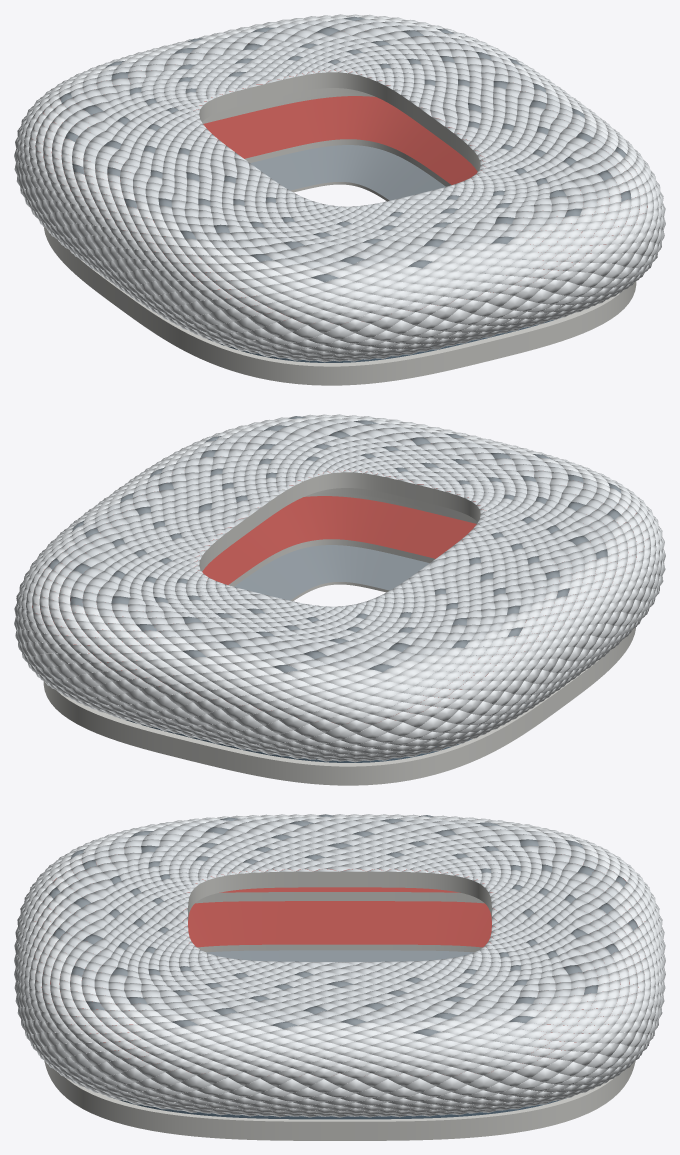
File: munich-allianz-arena.detail.glb
3 renders of one model, top to bottom at view 1: azimuth 30°, elevation 25°; view 2: azimuth 150°, elevation 25°; view 3: azimuth 270°, elevation 25°, orthographic.
Parts seen in each view (by area): view 1: Allianz Arena; view 2: Allianz Arena; view 3: Allianz Arena.
Boxes of the visible parts, bbox=[...] form: Allianz Arena: bbox=[14, 14, 665, 385]; Allianz Arena: bbox=[14, 414, 665, 785]; Allianz Arena: bbox=[14, 814, 665, 1140].
Bounding box in the file's own units: 229 × 51.69 × 261.
